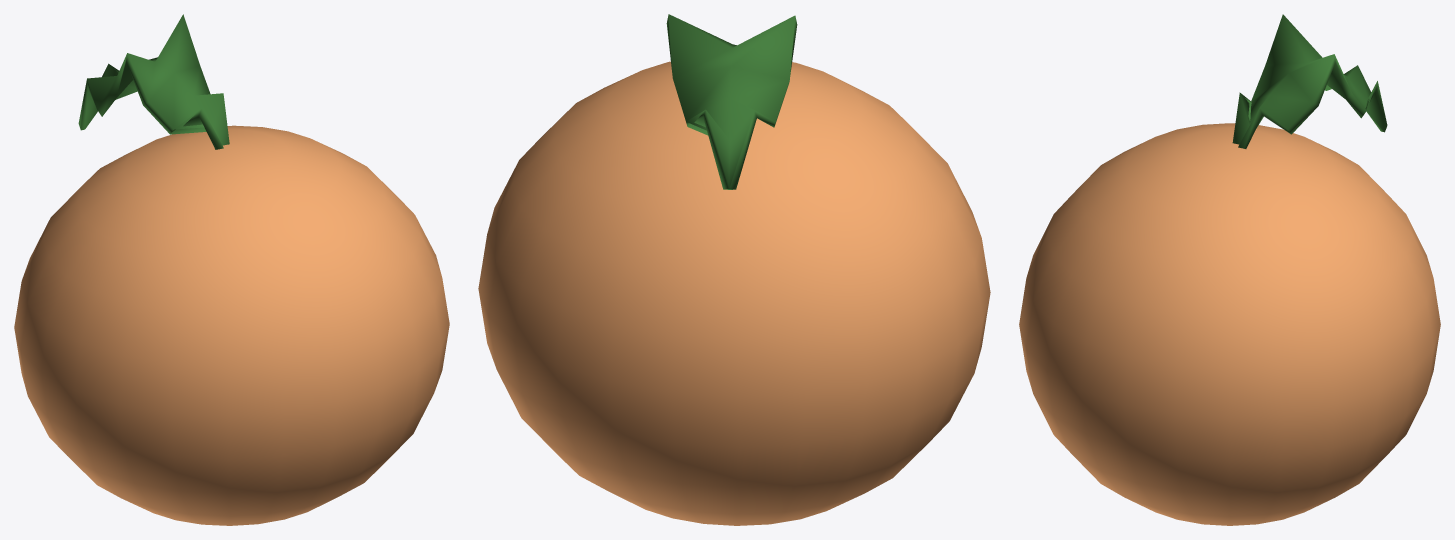
Rendered from peach.glb.
3 renders of one model, left to right at view 1: azimuth 30°, elevation 25°; view 2: azimuth 150°, elevation 25°; view 3: azimuth 270°, elevation 25°, orthographic. The views are drawn at different scales.
Visible parts, largest first — view 1: edible_peach, edible_leaf.002; view 2: edible_peach, edible_leaf.002; view 3: edible_peach, edible_leaf.002.
Boxes of the visible parts, x1,y1,x2,y2 form: edible_peach: [14, 125, 449, 525]; edible_leaf.002: [78, 14, 229, 149]; edible_peach: [478, 61, 990, 525]; edible_leaf.002: [666, 14, 797, 189]; edible_peach: [1019, 123, 1440, 525]; edible_leaf.002: [1232, 14, 1387, 148].
Bounding box in the file's own units: 0.098 × 0.111 × 0.094.
